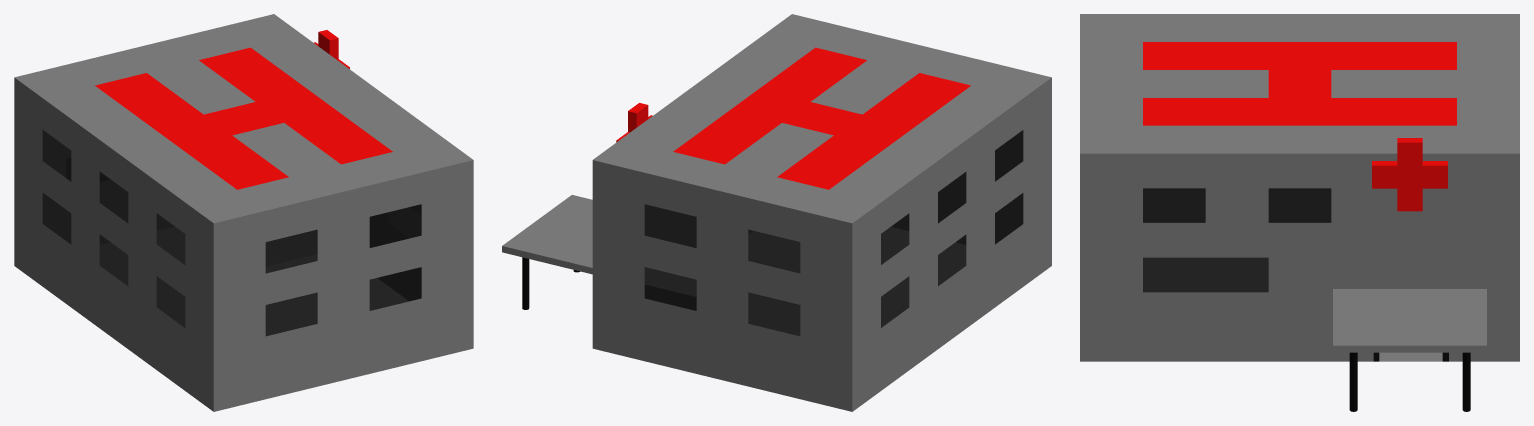
File: hospital.obj
3 views of the same model, side by side, from view 1: azimuth 30°, elevation 25°; view 2: azimuth 150°, elevation 25°; view 3: azimuth 270°, elevation 25° (orthographic). The views are drawn at different scales.
Parts seen in each view (by area): view 1: Body; view 2: Body; view 3: Body.
Part boxes in pixels (left/top/right/bottom): Body: left=14, top=14, right=473, bottom=411; Body: left=502, top=14, right=1051, bottom=411; Body: left=1080, top=14, right=1519, bottom=411.
Size of the model in its own units: 119 by 63.12 by 112.
